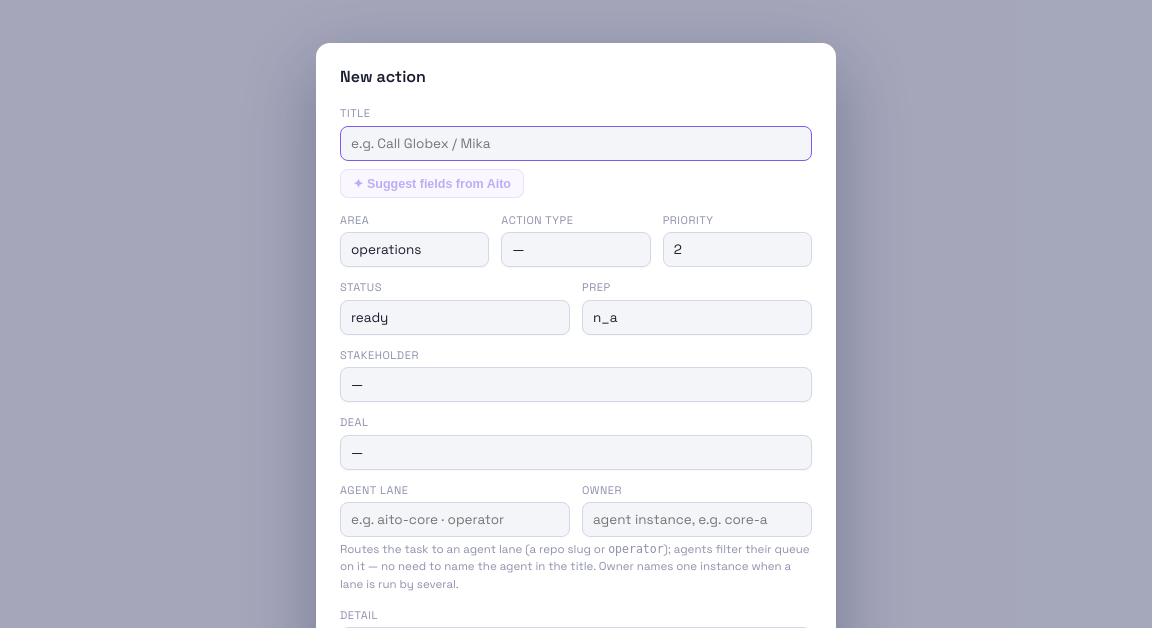
TodoEditor › hides due/window for a pipeline area, shows them for a calendar area
expect the heading "New action" is shown: met, box [340,66,426,87]
expect the text "due" is not shown: met
// switch to a calendar area → the due field appears
Select "sales" in the dropdown showing "operations" at (415, 250), box [340,232,489,267]
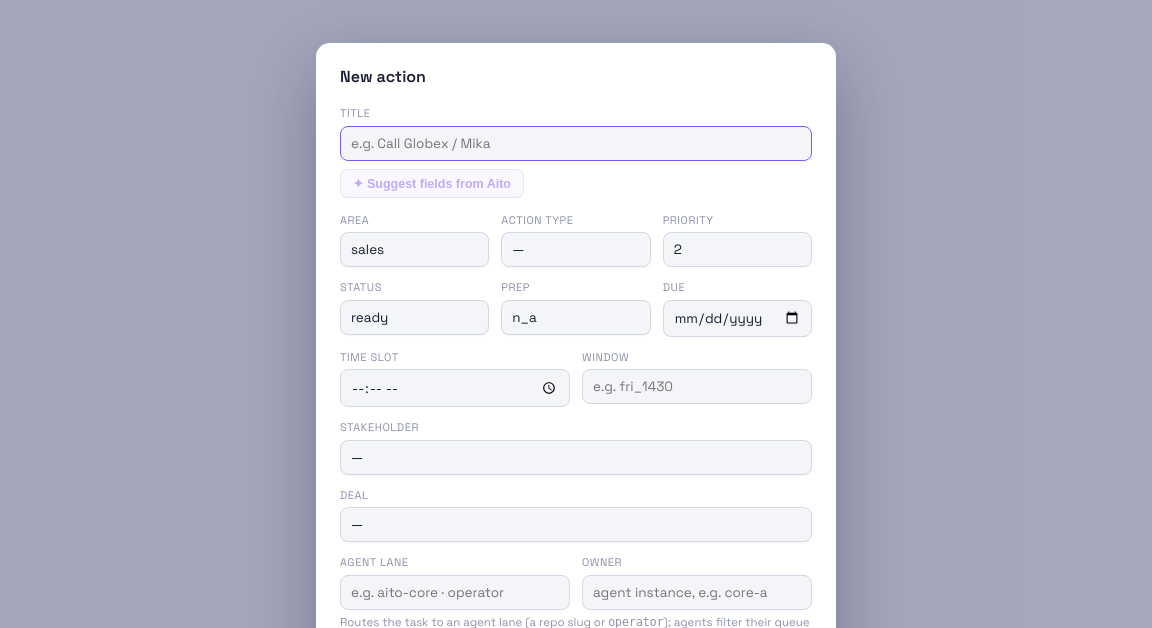
expect the text "due" is shown: met, box [663,279,812,337]
